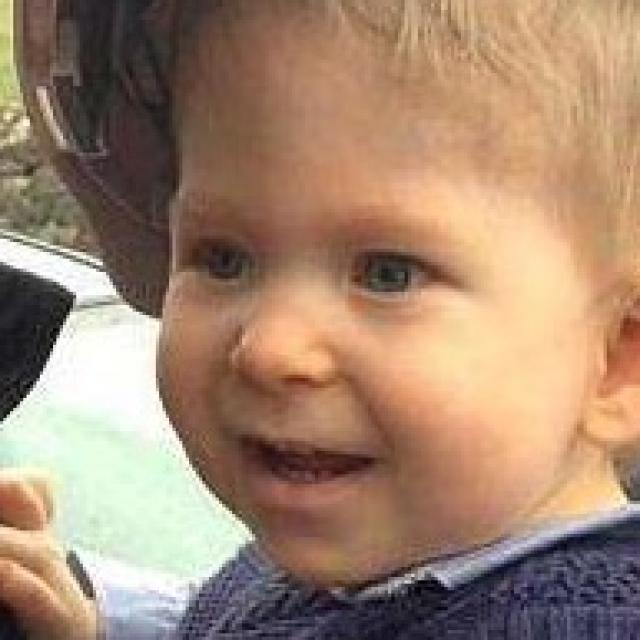Normal: (153, 20, 595, 585)
